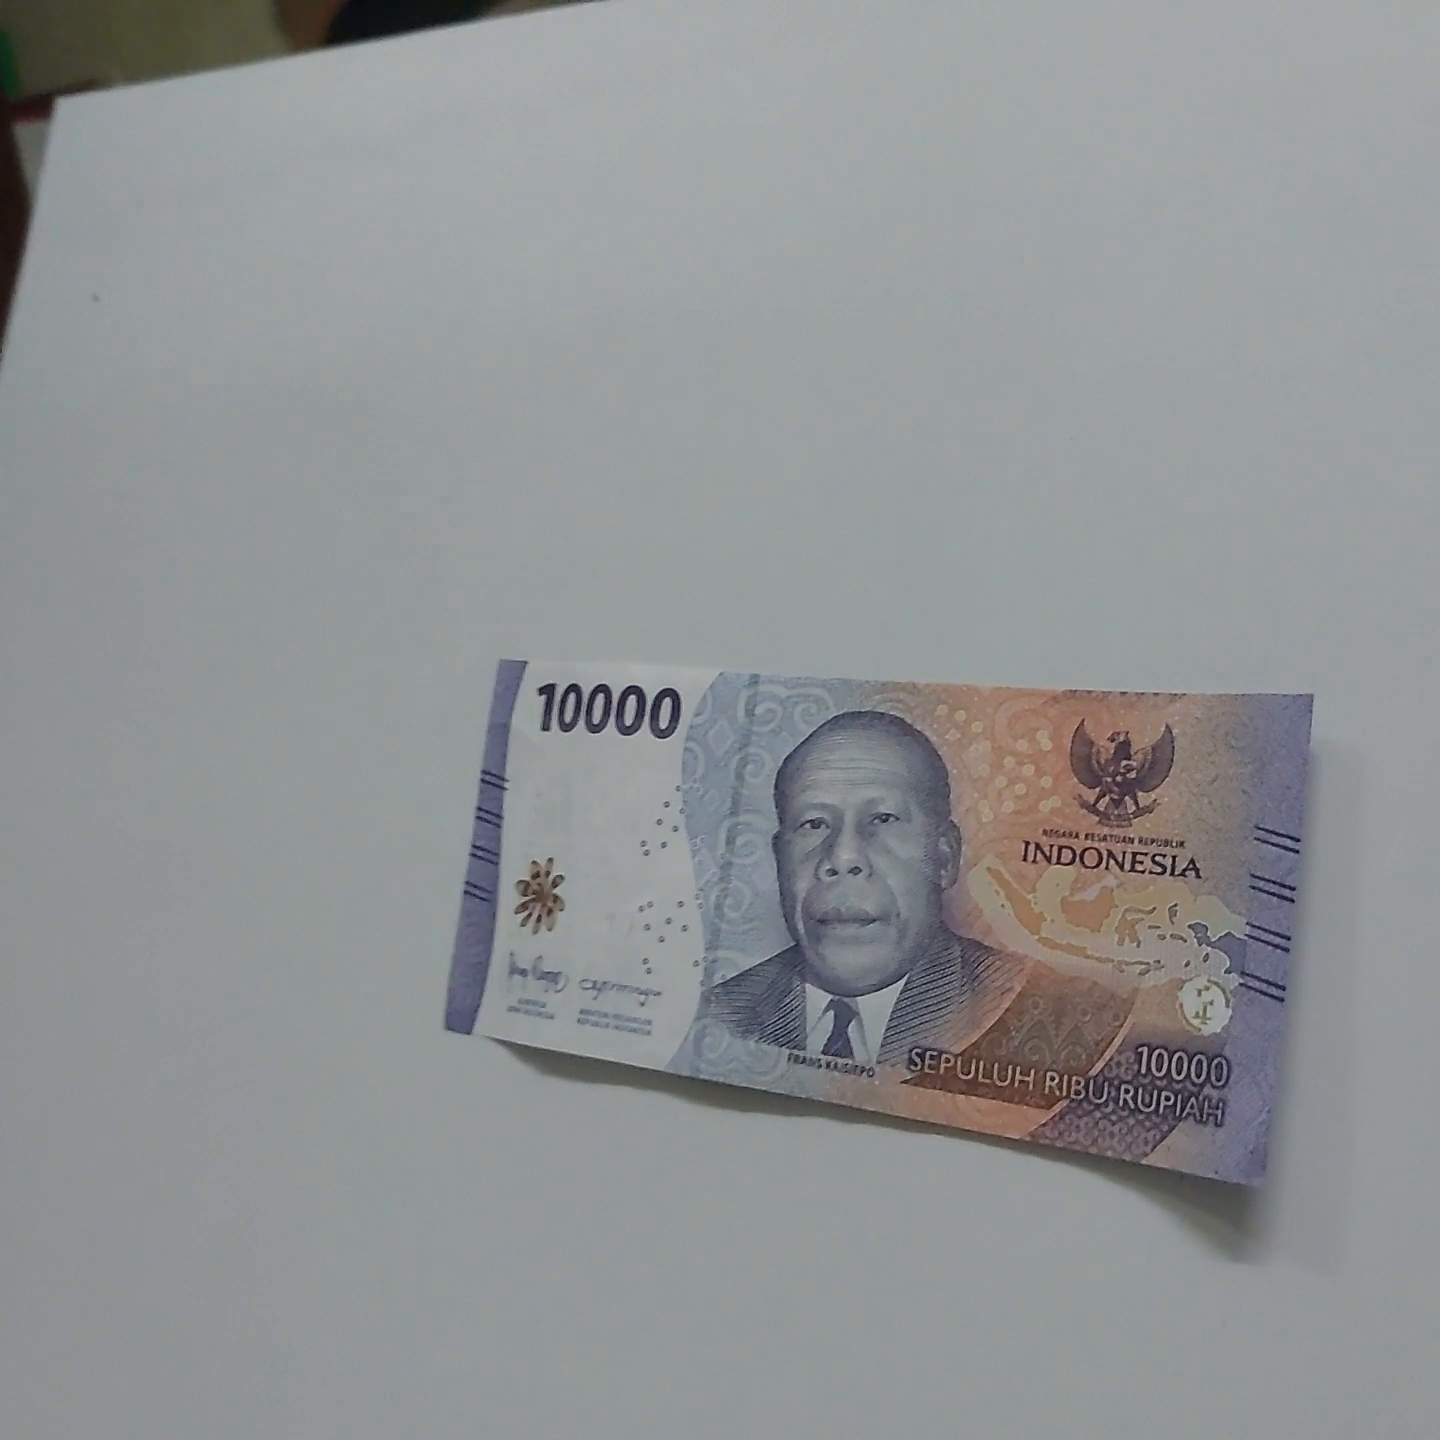10k: (438, 593, 1315, 1176)
